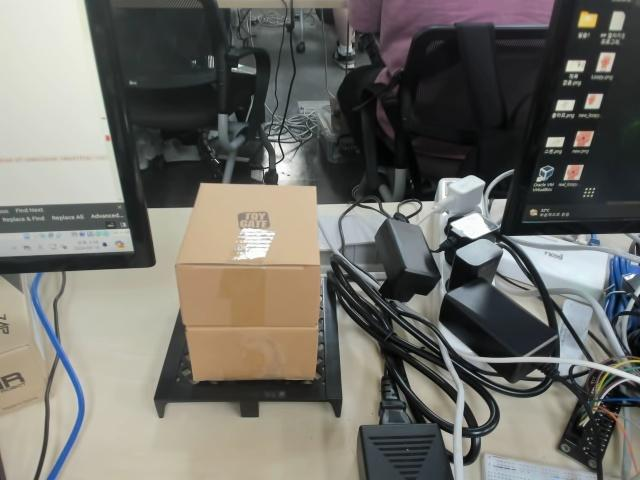box: (153, 180, 344, 418)
